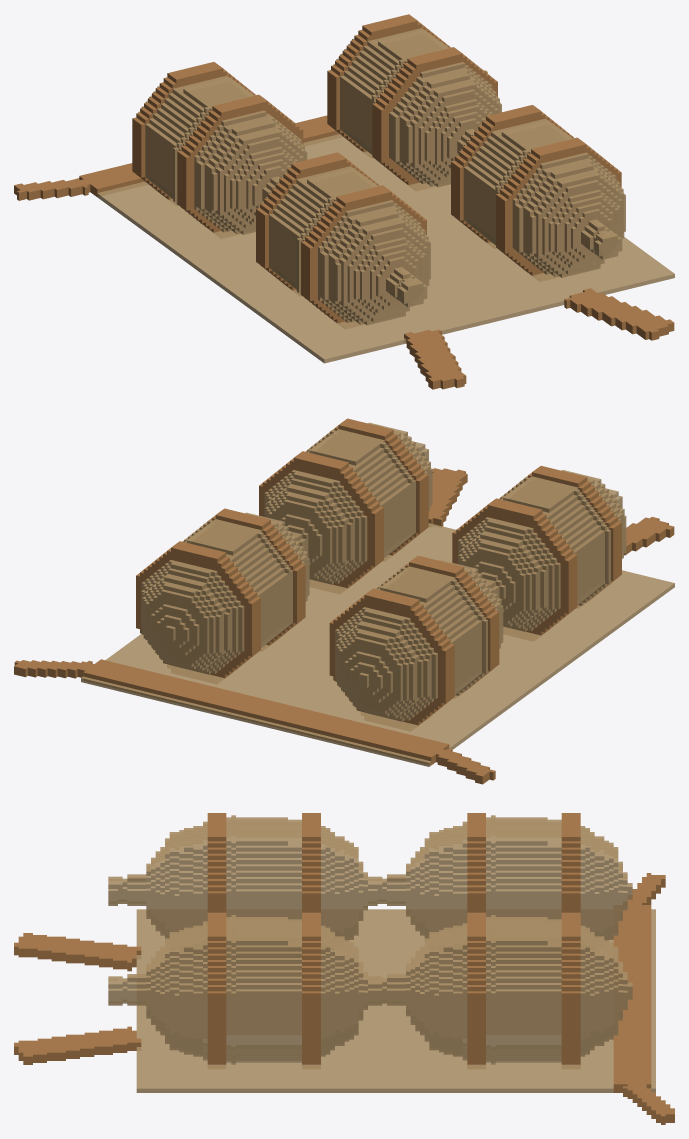
Rendered from flotation_vest_makeshift.glb.
The picture shows the model from 3 angles, top to bottom: view 1: azimuth 30°, elevation 25°; view 2: azimuth 150°, elevation 25°; view 3: azimuth 270°, elevation 25°; orthographic projection. The views are drawn at different scales.
Parts seen in each view (by area): view 1: flotation_vest_makeshift:compound; view 2: flotation_vest_makeshift:compound; view 3: flotation_vest_makeshift:compound.
Boxes of the visible parts, <box> form: flotation_vest_makeshift:compound: <box>14,14,674,389</box>; flotation_vest_makeshift:compound: <box>14,418,674,784</box>; flotation_vest_makeshift:compound: <box>14,813,674,1124</box>.
Size of the model in its own units: 0.488 by 0.124 by 0.56.
